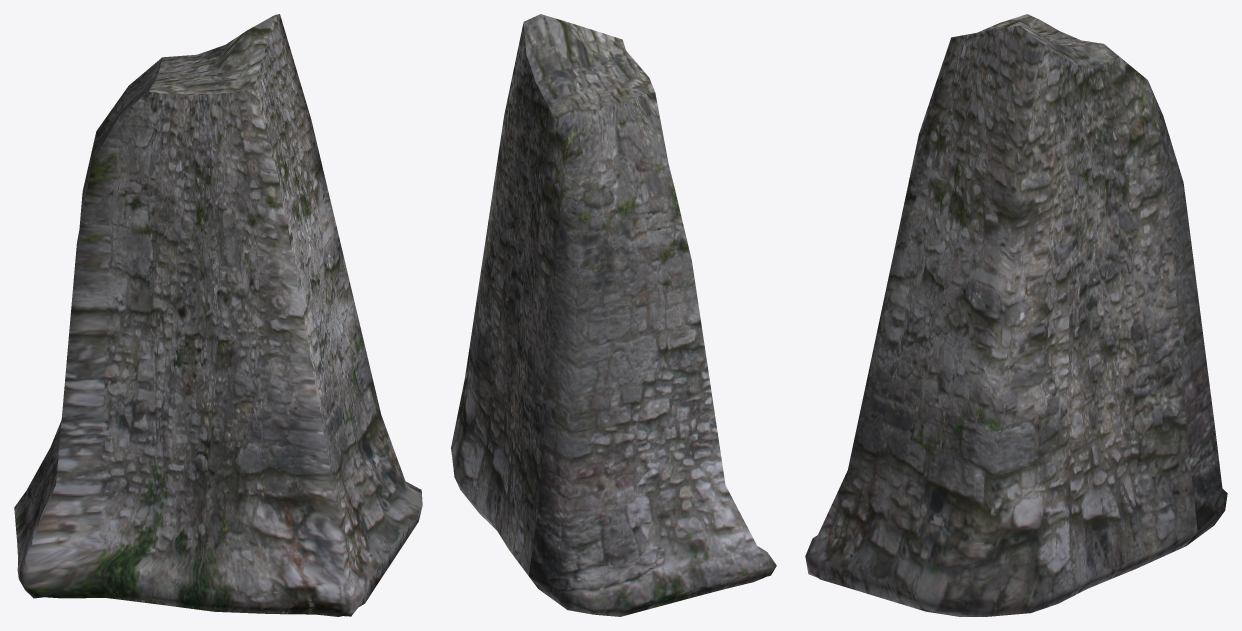
File: castleruins piece six.fbx
3 renders of one model, left to right at view 1: azimuth 30°, elevation 25°; view 2: azimuth 150°, elevation 25°; view 3: azimuth 270°, elevation 25°, orthographic. The views are drawn at different scales.
Parts seen in each view (by area): view 1: castleruins_six; view 2: castleruins_six; view 3: castleruins_six.
Boxes of the visible parts, bbox=[...] form: castleruins_six: bbox=[14, 14, 422, 616]; castleruins_six: bbox=[451, 14, 776, 616]; castleruins_six: bbox=[805, 14, 1227, 616].
Size of the model in its own units: 110 by 153 by 103.
1 material, 1 textured.
